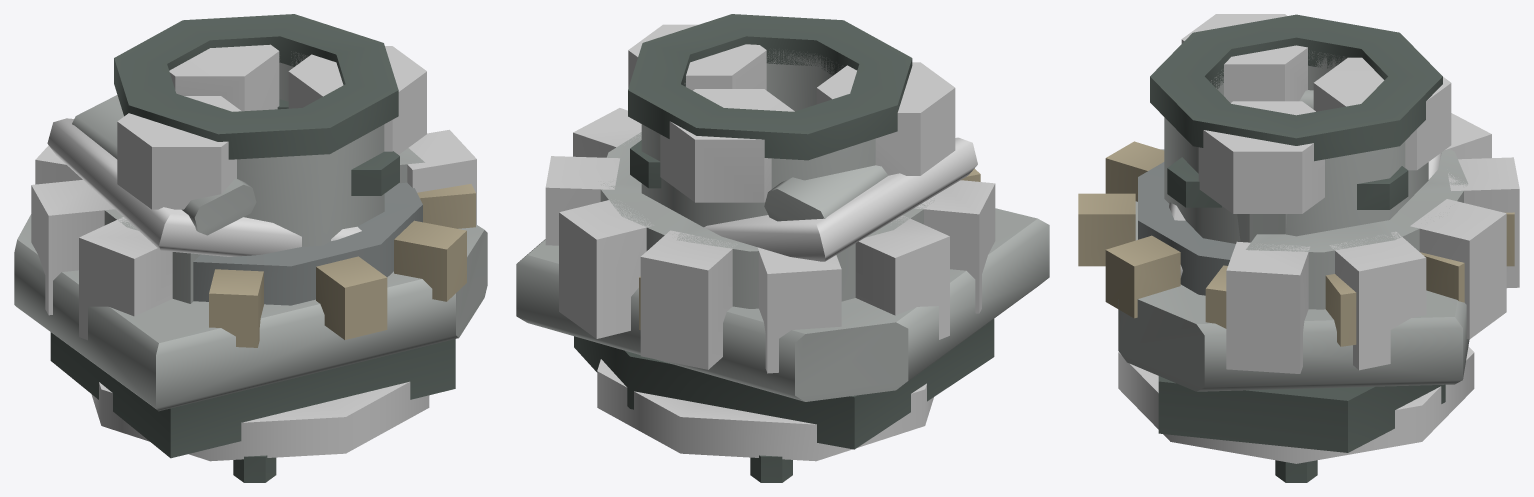
The model's file is scrap_pickups.glb.
3 views of the same model, side by side, from view 1: azimuth 30°, elevation 25°; view 2: azimuth 150°, elevation 25°; view 3: azimuth 270°, elevation 25° (orthographic).
Parts seen in each view (by area): view 1: BentPlate, PipeStub, BoltCluster, Cog, GearSegment; view 2: GearSegment, PipeStub, BentPlate, BoltCluster; view 3: PipeStub, GearSegment, BoltCluster, BentPlate, Cog.
Part boxes in pixels (x1,y1,x2,y2): BentPlate: (14, 95, 487, 411); PipeStub: (91, 14, 429, 482); BoltCluster: (50, 44, 455, 458); Cog: (193, 182, 475, 347); GearSegment: (31, 129, 476, 340); GearSegment: (545, 108, 995, 373); PipeStub: (597, 14, 933, 482); BentPlate: (516, 137, 1049, 401); BoltCluster: (574, 24, 994, 449); PipeStub: (1118, 14, 1474, 482); GearSegment: (1226, 113, 1519, 373); BoltCluster: (1158, 14, 1451, 452); BentPlate: (1118, 90, 1469, 391); Cog: (1078, 141, 1514, 346).
Bounding box in the file's own units: 0.7778 × 0.645 × 0.7689.
